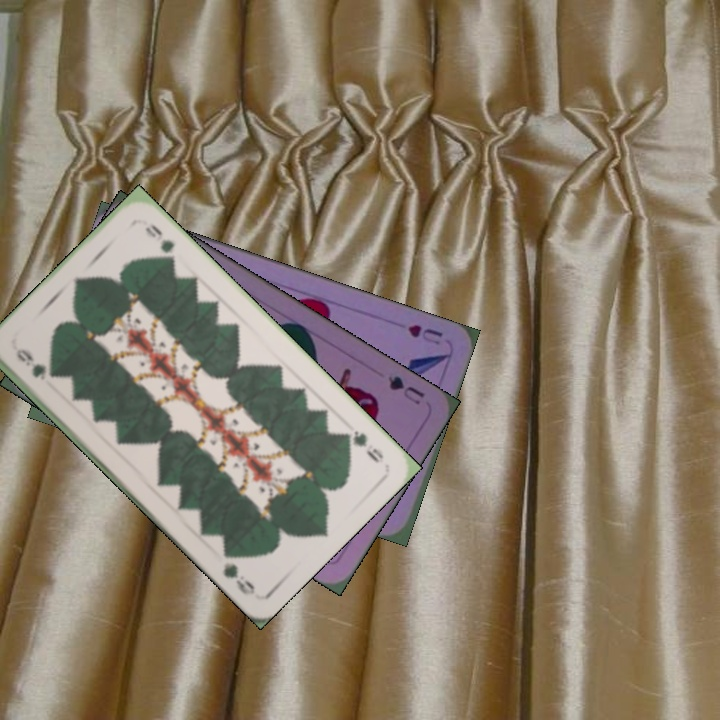G9: (338, 426, 386, 466), (12, 345, 55, 383)
GU: (383, 371, 428, 408)
HU: (404, 320, 445, 348)
